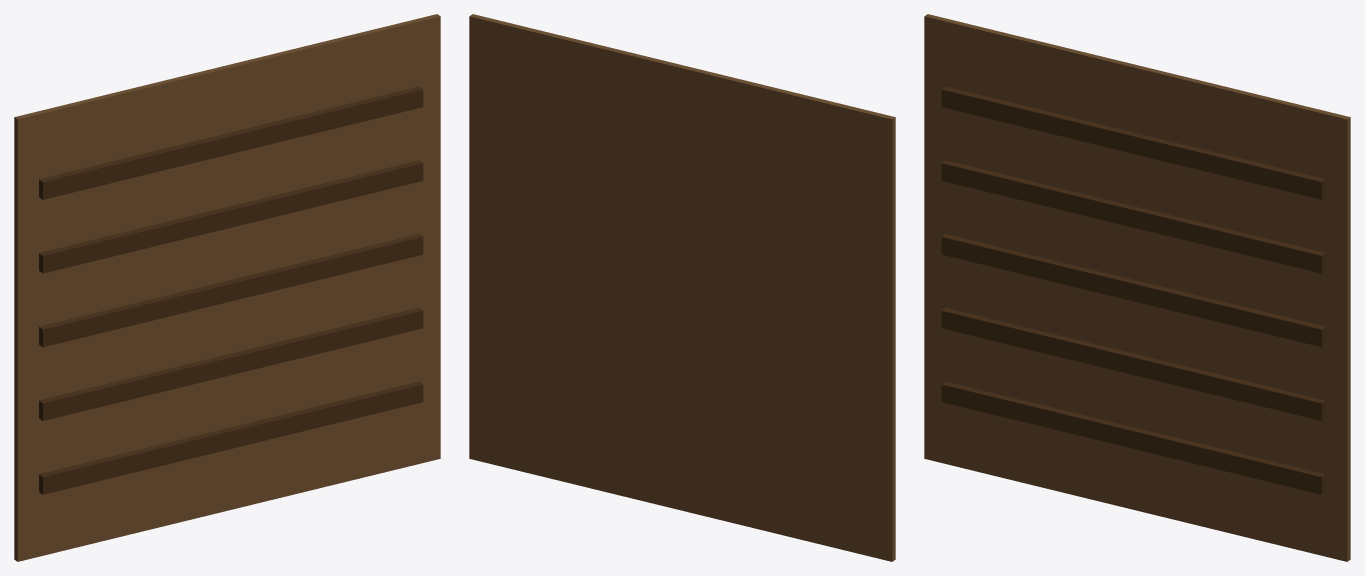
File: patch_cleared.obj
3 renders of one model, left to right at view 1: azimuth 30°, elevation 25°; view 2: azimuth 150°, elevation 25°; view 3: azimuth 330°, elevation 25°, orthographic.
Parts seen in each view (by area): view 1: patch_cleared; view 2: patch_cleared; view 3: patch_cleared.
Part boxes in pixels (<box>): patch_cleared: <box>14,14,440,561</box>; patch_cleared: <box>469,14,895,561</box>; patch_cleared: <box>924,14,1350,561</box>.
Size of the model in its own units: 1.5 by 1.5 by 0.045.
